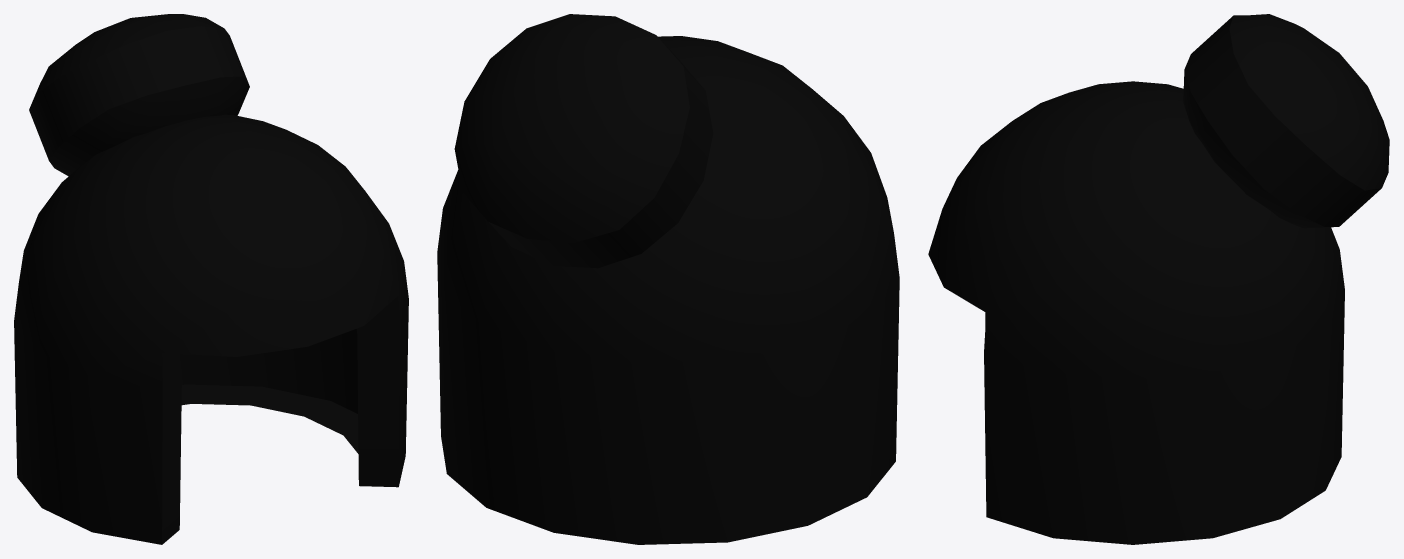
Rendered from Hair_05.fbx.
3 views of the same model, side by side, from view 1: azimuth 30°, elevation 25°; view 2: azimuth 150°, elevation 25°; view 3: azimuth 270°, elevation 25° (orthographic). The views are drawn at different scales.
Visible parts, largest first — view 1: Hair_05; view 2: Hair_05; view 3: Hair_05.
Boxes of the visible parts, x1=… form: Hair_05: x1=14, y1=14, x2=408, y2=544; Hair_05: x1=437, y1=14, x2=899, y2=544; Hair_05: x1=928, y1=14, x2=1389, y2=544.
Size of the model in its own units: 116 by 130 by 127.
